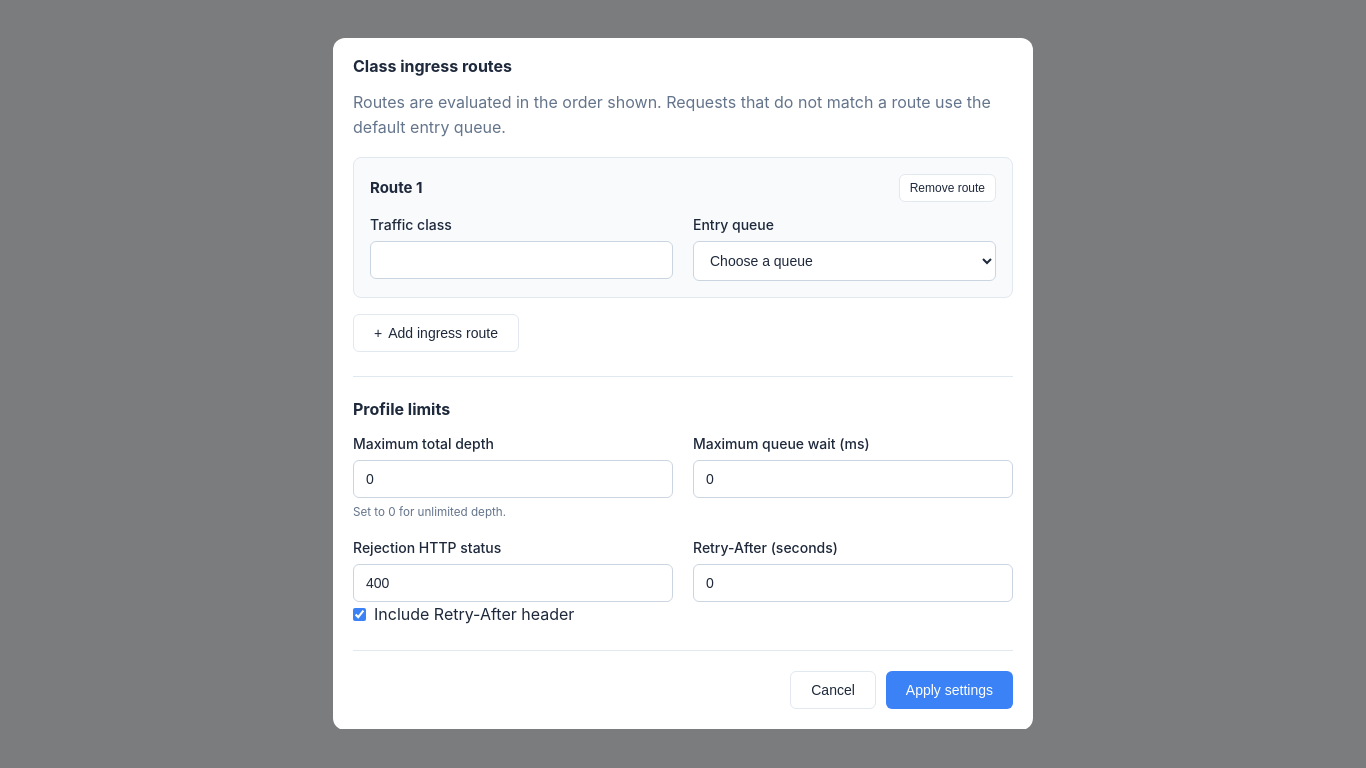
rejects incomplete ingress routes without applying
(page scrolled)
Click the button "Apply settings": x=949, y=690 [886,671,1013,709]
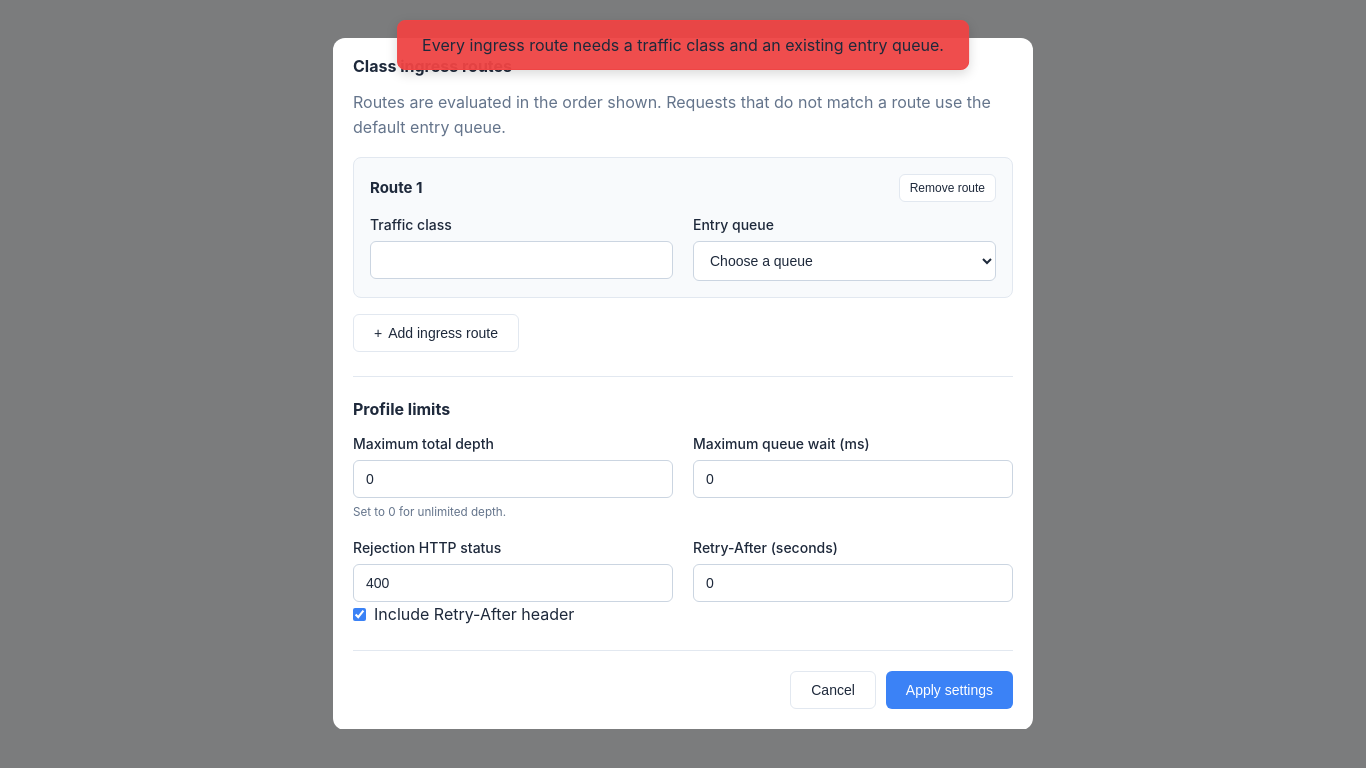
Result: the message shows "Every ingress route" at [422,35,944,55]
